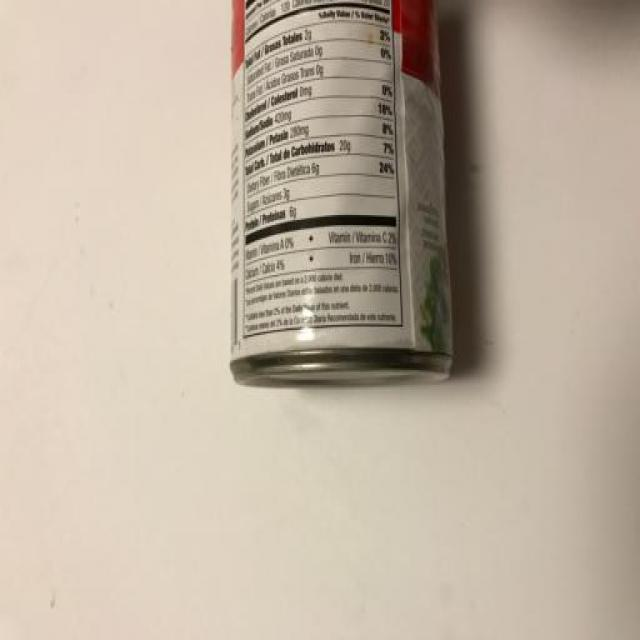metel: (219, 1, 470, 401)
